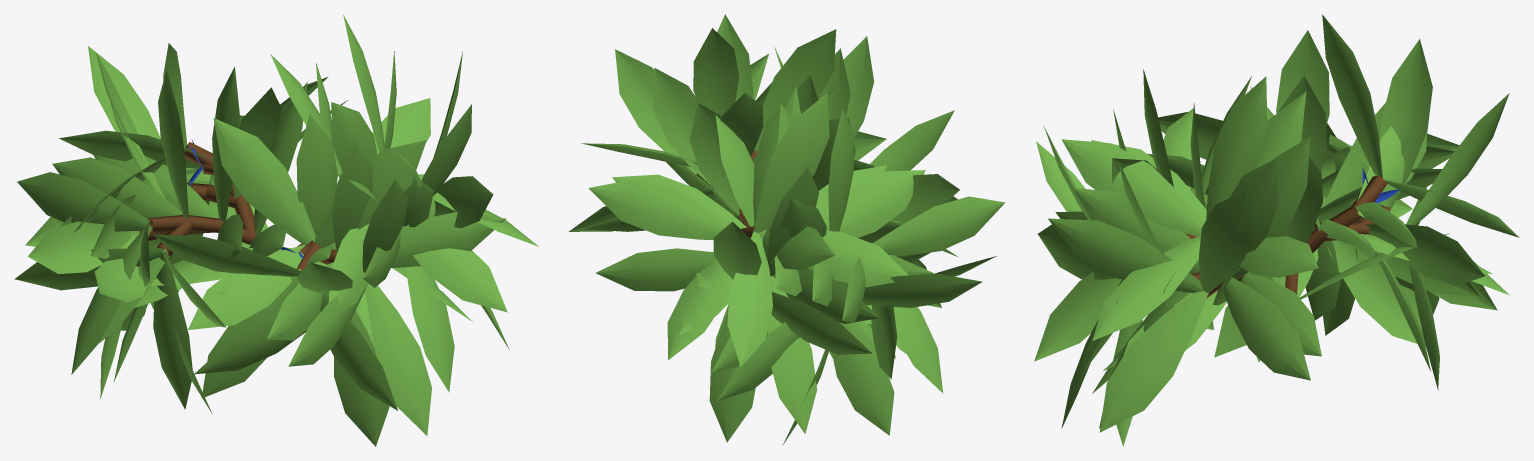
Rendered from plant_seed_999.obj.
The picture shows the model from 3 angles, left to right: view 1: azimuth 30°, elevation 25°; view 2: azimuth 150°, elevation 25°; view 3: azimuth 270°, elevation 25°; orthographic projection. The views are drawn at different scales.
Parts seen in each view (by area): view 1: shape_0, shape_1; view 2: shape_0; view 3: shape_0, shape_1.
Boxes of the visible parts, box(x1,y1,x2,y2) form: shape_0: box(14, 14, 538, 446); shape_1: box(139, 142, 336, 271); shape_0: box(569, 14, 1005, 445); shape_0: box(1034, 14, 1519, 446); shape_1: box(1183, 175, 1389, 297).
Bounding box in the file's own units: 3.08 × 2.57 × 2.9.
